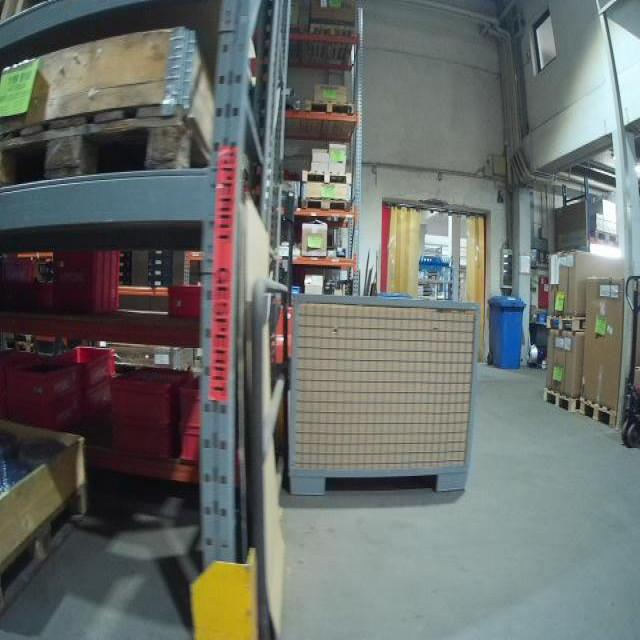pallet: (0, 99, 214, 189), (2, 486, 86, 606), (309, 18, 357, 70), (578, 397, 618, 431), (304, 98, 354, 119), (542, 385, 578, 414), (544, 312, 586, 335)
pallet_truck: (271, 186, 300, 371), (620, 268, 640, 450)
small_load_carrier: (55, 247, 124, 316), (106, 365, 192, 420), (1, 381, 86, 434), (54, 341, 114, 386), (6, 353, 70, 392), (104, 416, 166, 453), (3, 276, 53, 315), (164, 281, 207, 322), (174, 366, 200, 426), (85, 379, 118, 423), (177, 424, 202, 464)
stillage: (284, 286, 486, 504)
